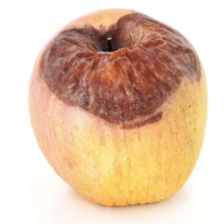apple: (49, 0, 189, 195)
